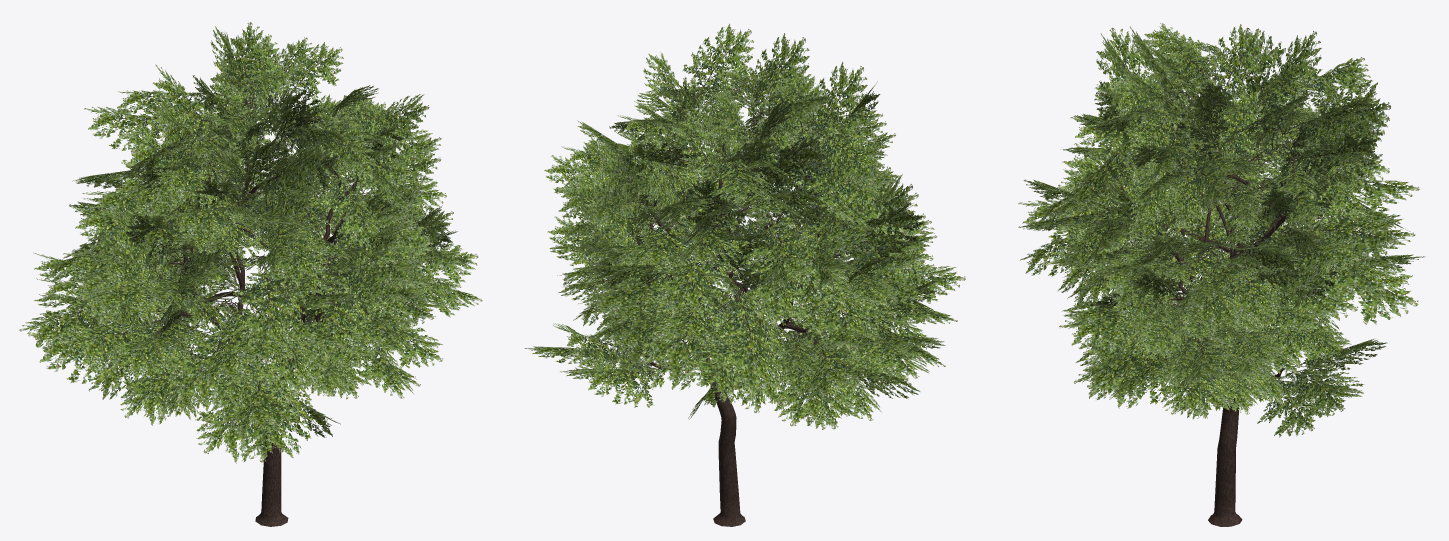
Rendered from arvore-teste.glb.
3 views of the same model, side by side, from view 1: azimuth 30°, elevation 25°; view 2: azimuth 150°, elevation 25°; view 3: azimuth 270°, elevation 25° (orthographic). The views are drawn at different scales.
Visible parts, largest first — view 1: Object_0; view 2: Object_0; view 3: Object_0.
Boxes of the visible parts, box(x1,y1,x2,y2) form: Object_0: box(19, 22, 482, 526); Object_0: box(524, 23, 965, 526); Object_0: box(1018, 23, 1425, 526).
Bounding box in the file's own units: 6.53 × 7 × 5.54.
Materials: 2 (2 with a texture image).
